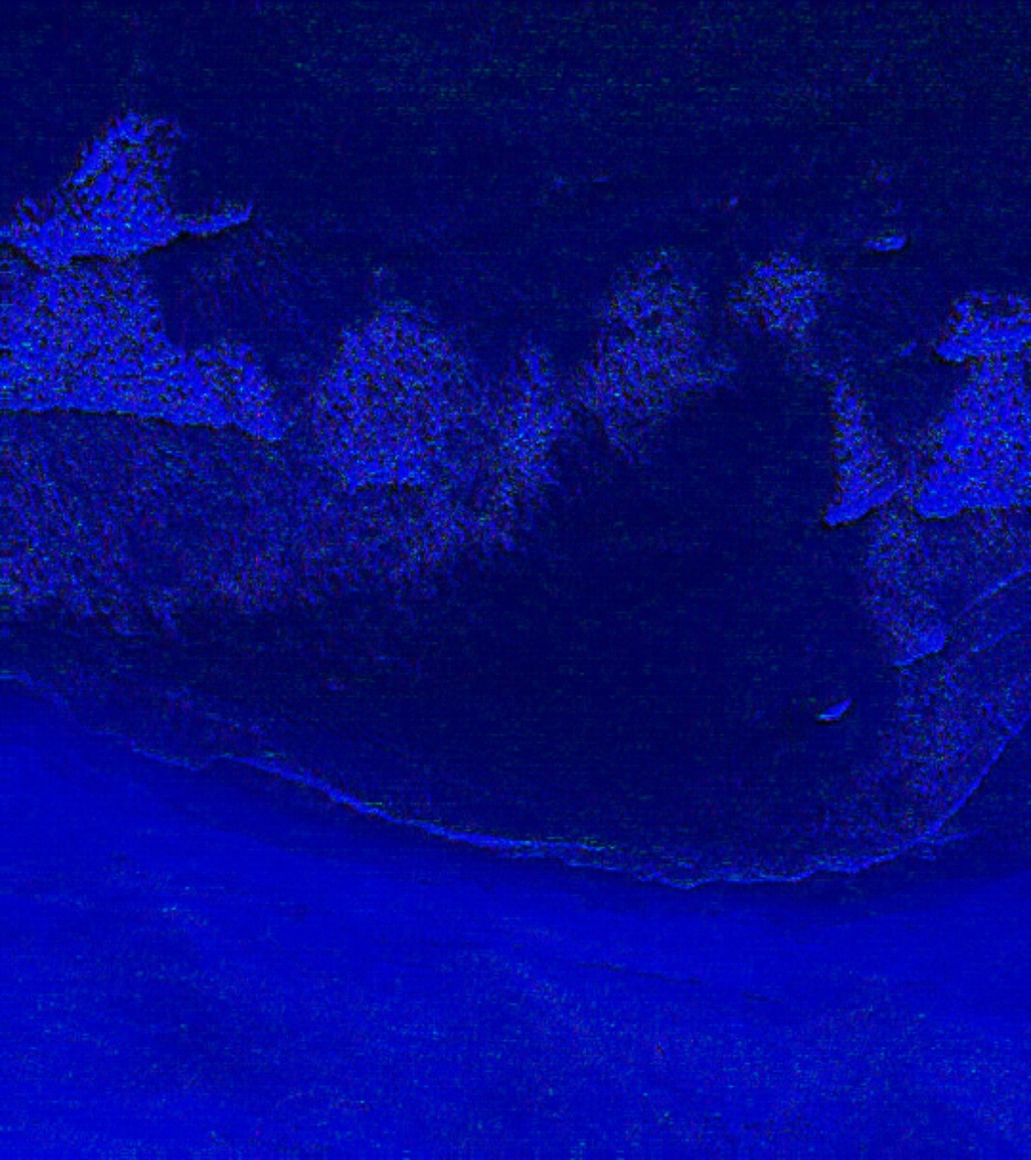rip_current: (327, 260, 877, 812)
